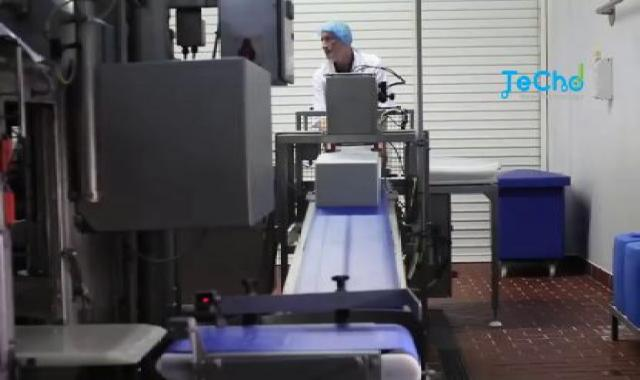hairnet: (313, 18, 356, 50)
